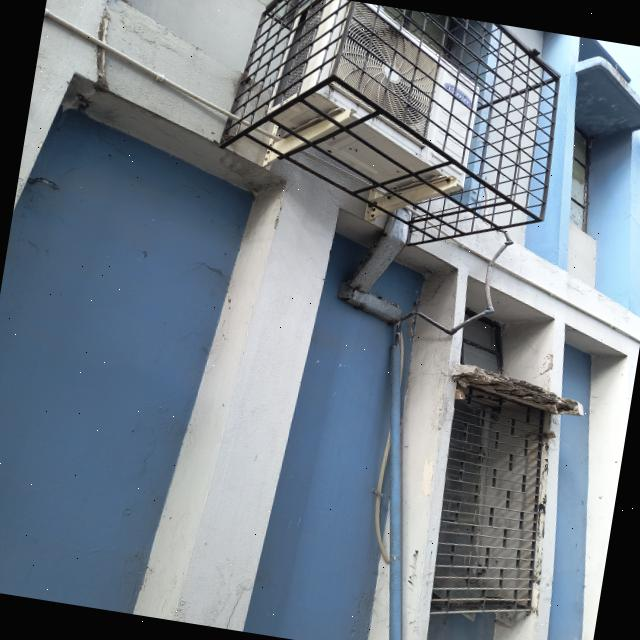spalling: (451, 365, 583, 416)
